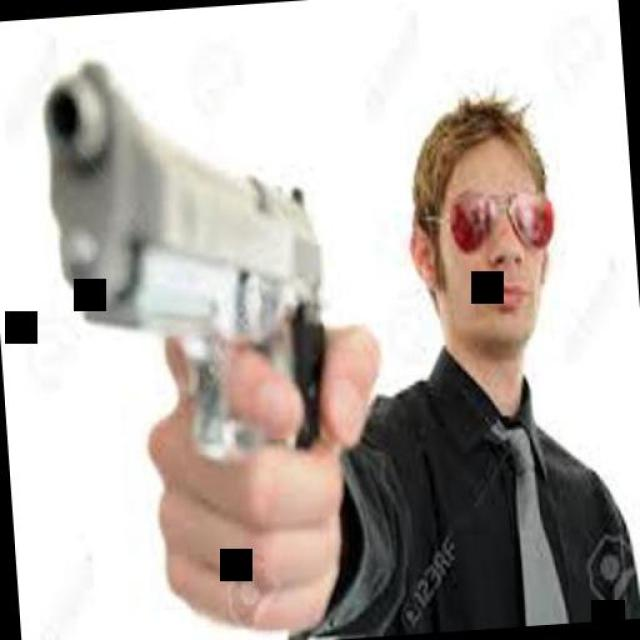gun: (44, 26, 328, 472)
